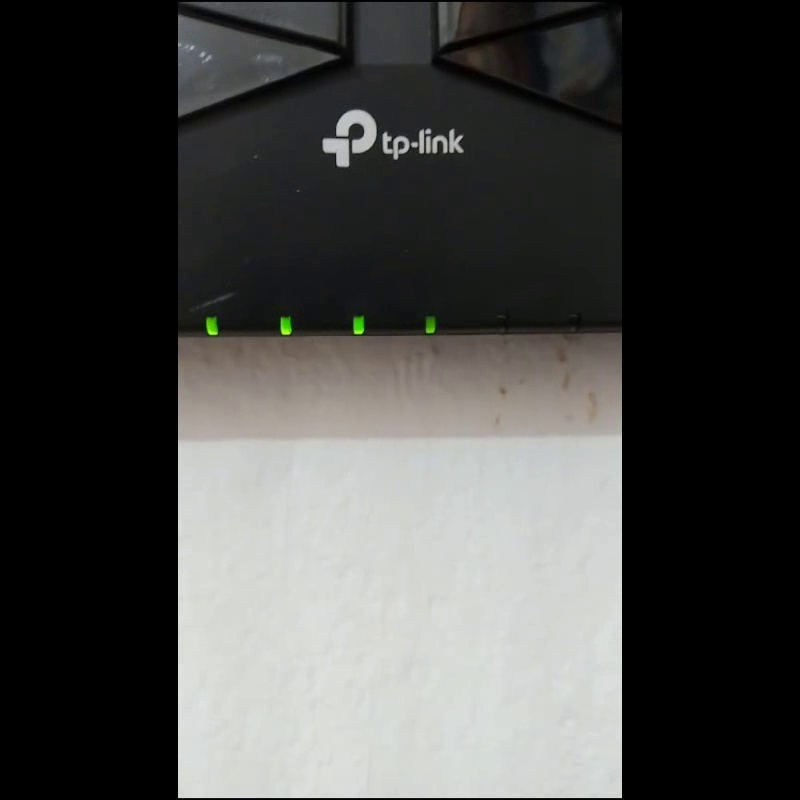off: (567, 313, 579, 330), (497, 312, 506, 331)
on_green: (205, 316, 217, 334), (280, 316, 291, 335), (353, 314, 363, 334), (425, 315, 435, 333)
